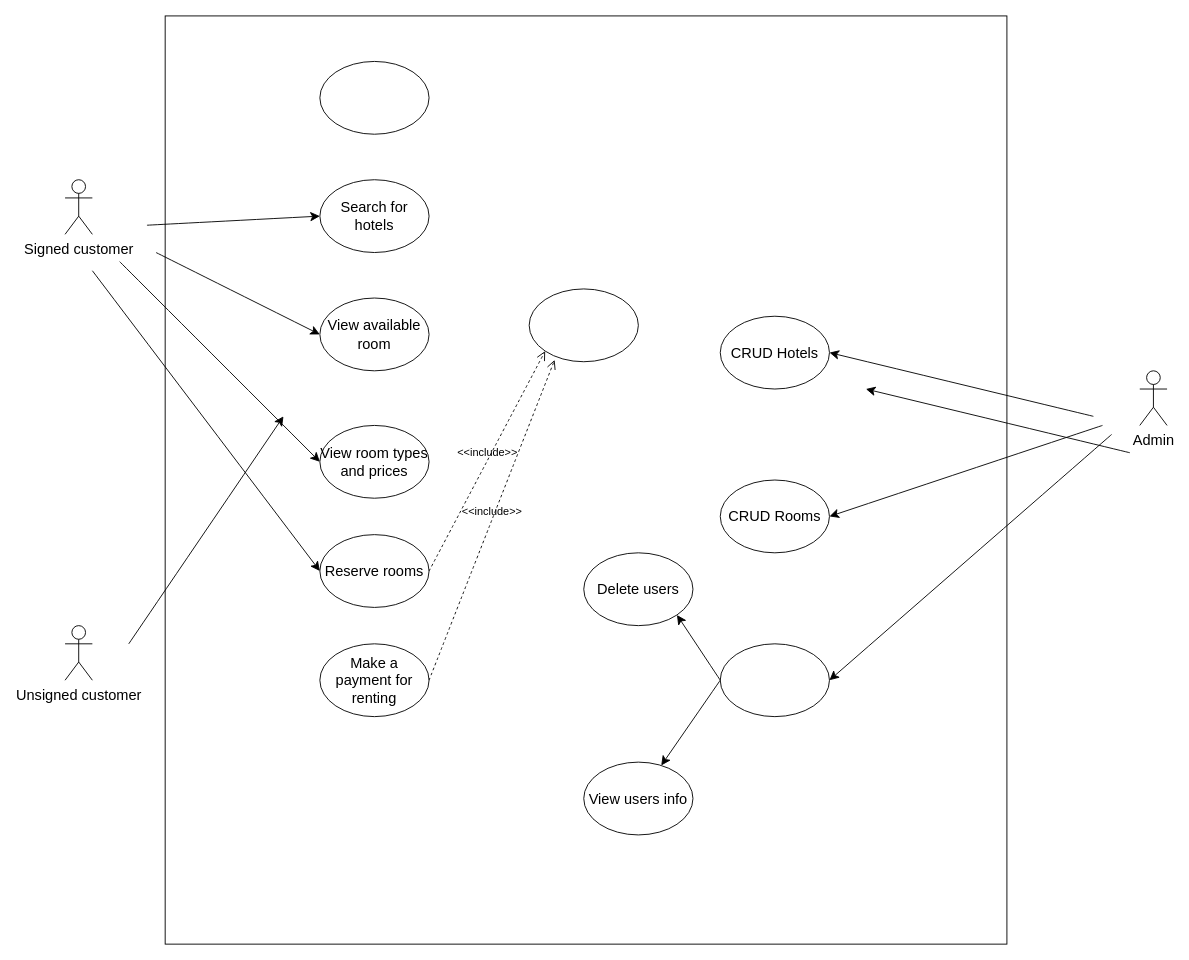
Image size: 1189x960. Some labels were removed from this diagram. Each missing label, with the box of its shape:
Login: (528, 288, 638, 362)
Manage users: (719, 643, 829, 717)
Register: (319, 61, 429, 134)
